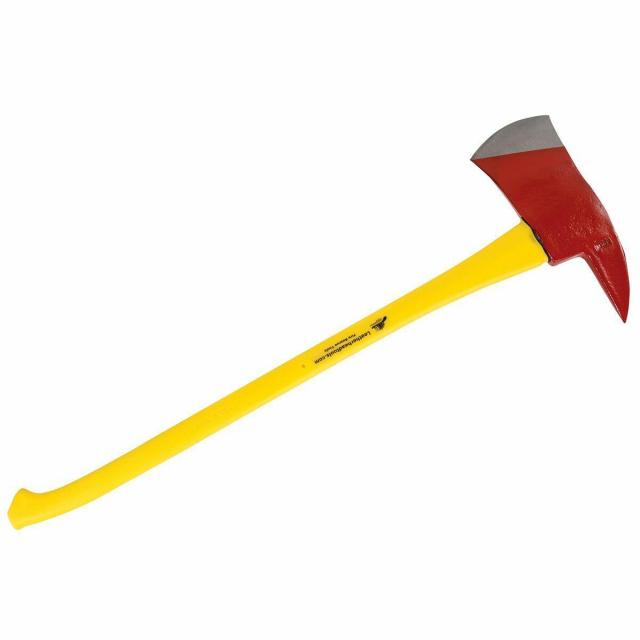Kapak: (13, 73, 636, 539)
